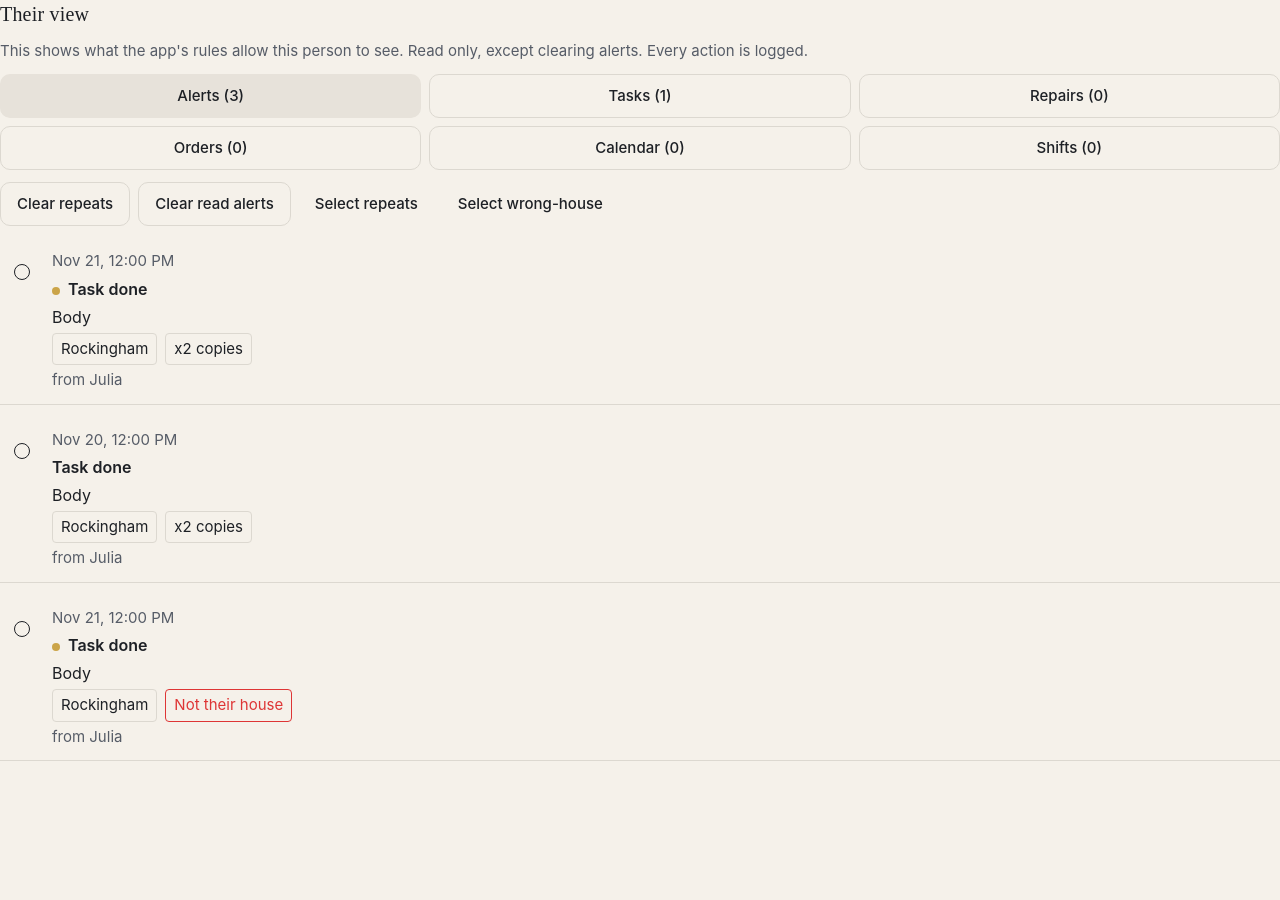
Scenario: Their view › confirms Clear repeats and calls only its RPC
This screenshot has width=1280, height=900.
Later steps or results of the test are not shown.
Expected: the tab "Alerts (3)" is shown, [0,74,421,118]
Click the button "Clear repeats" at (65, 204), box [0,182,130,226]
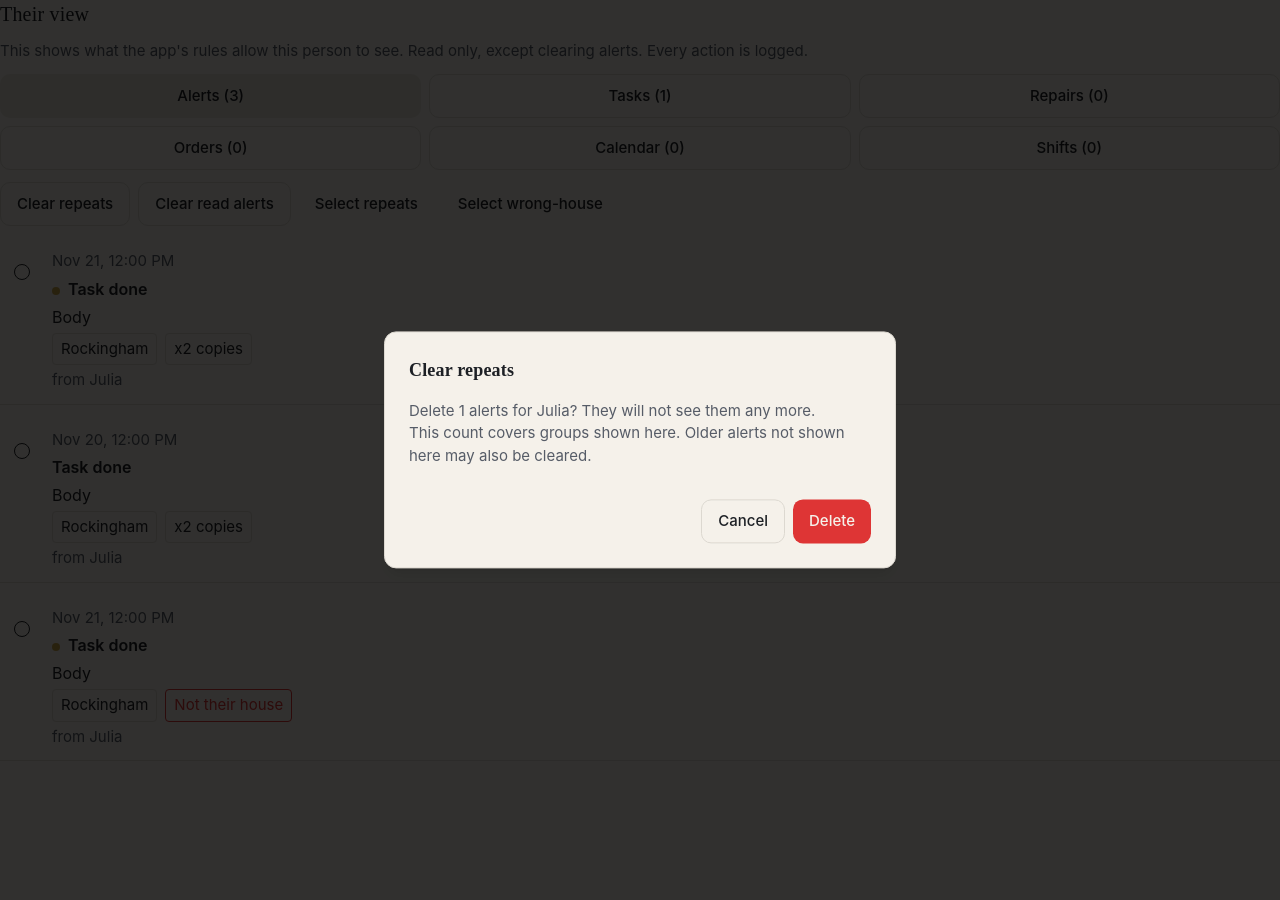
Now the dialog shows "Delete 1 alerts for Julia?", box [409,401,815,420]
